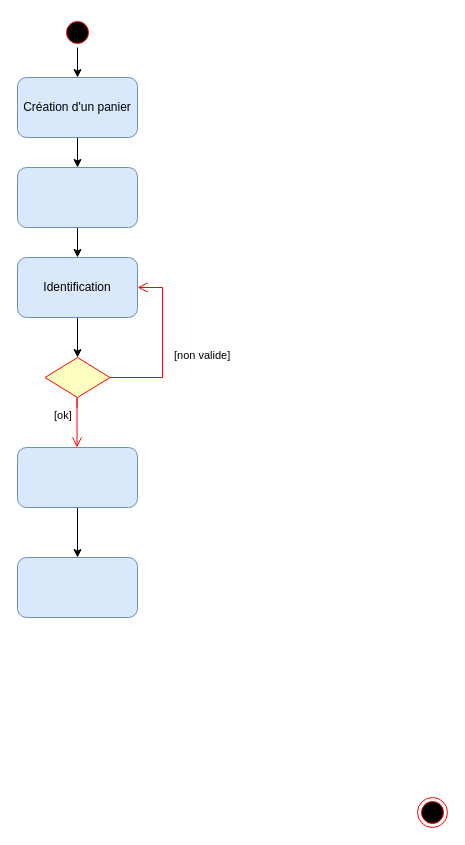
The diagram is 465 pixels wide and 845 high, and some of its shapes have lost their labels. The centre of each missing label's shape, as x and y in pixels:
"Commande" goes at (77,477).
"Validation du panier" goes at (77,197).
